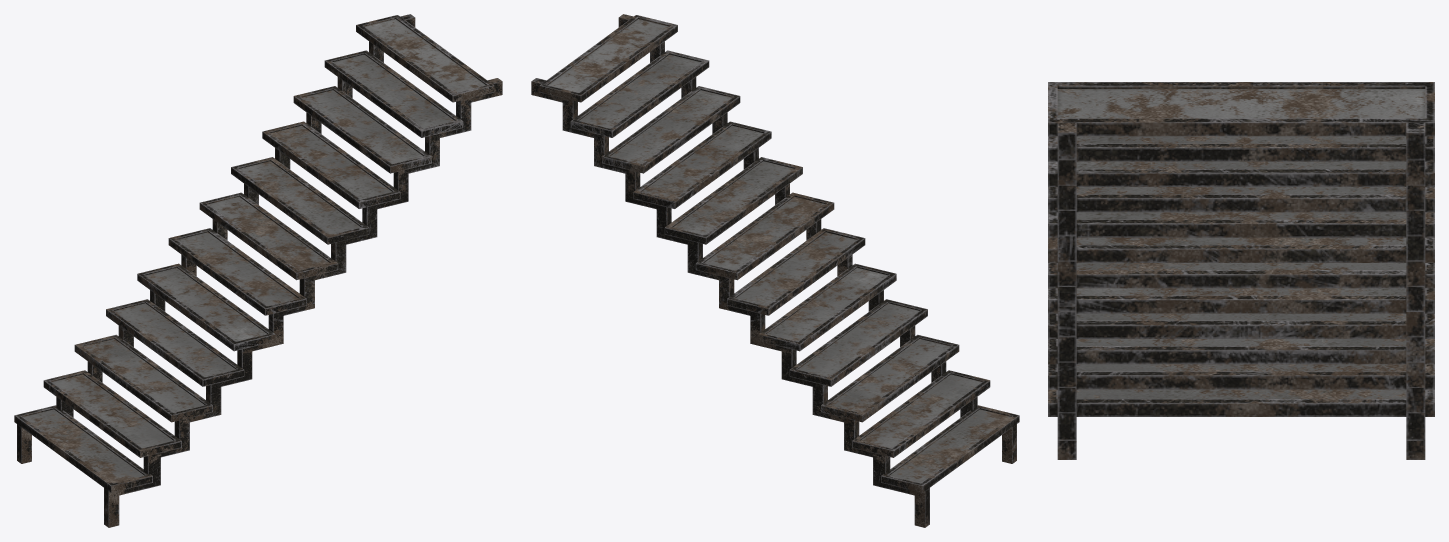
File: metal_stairs.glb
3 renders of one model, left to right at view 1: azimuth 30°, elevation 25°; view 2: azimuth 150°, elevation 25°; view 3: azimuth 270°, elevation 25°, orthographic. The views are drawn at different scales.
Parts seen in each view (by area): view 1: Staircase; view 2: Staircase; view 3: Staircase.
Boxes of the visible parts, <box> form: Staircase: <box>14,14,502,527</box>; Staircase: <box>531,14,1019,527</box>; Staircase: <box>1048,82,1434,459</box>.
Size of the model in its own units: 2.35 by 2 by 1.
Materials: 1 (1 with a texture image).
